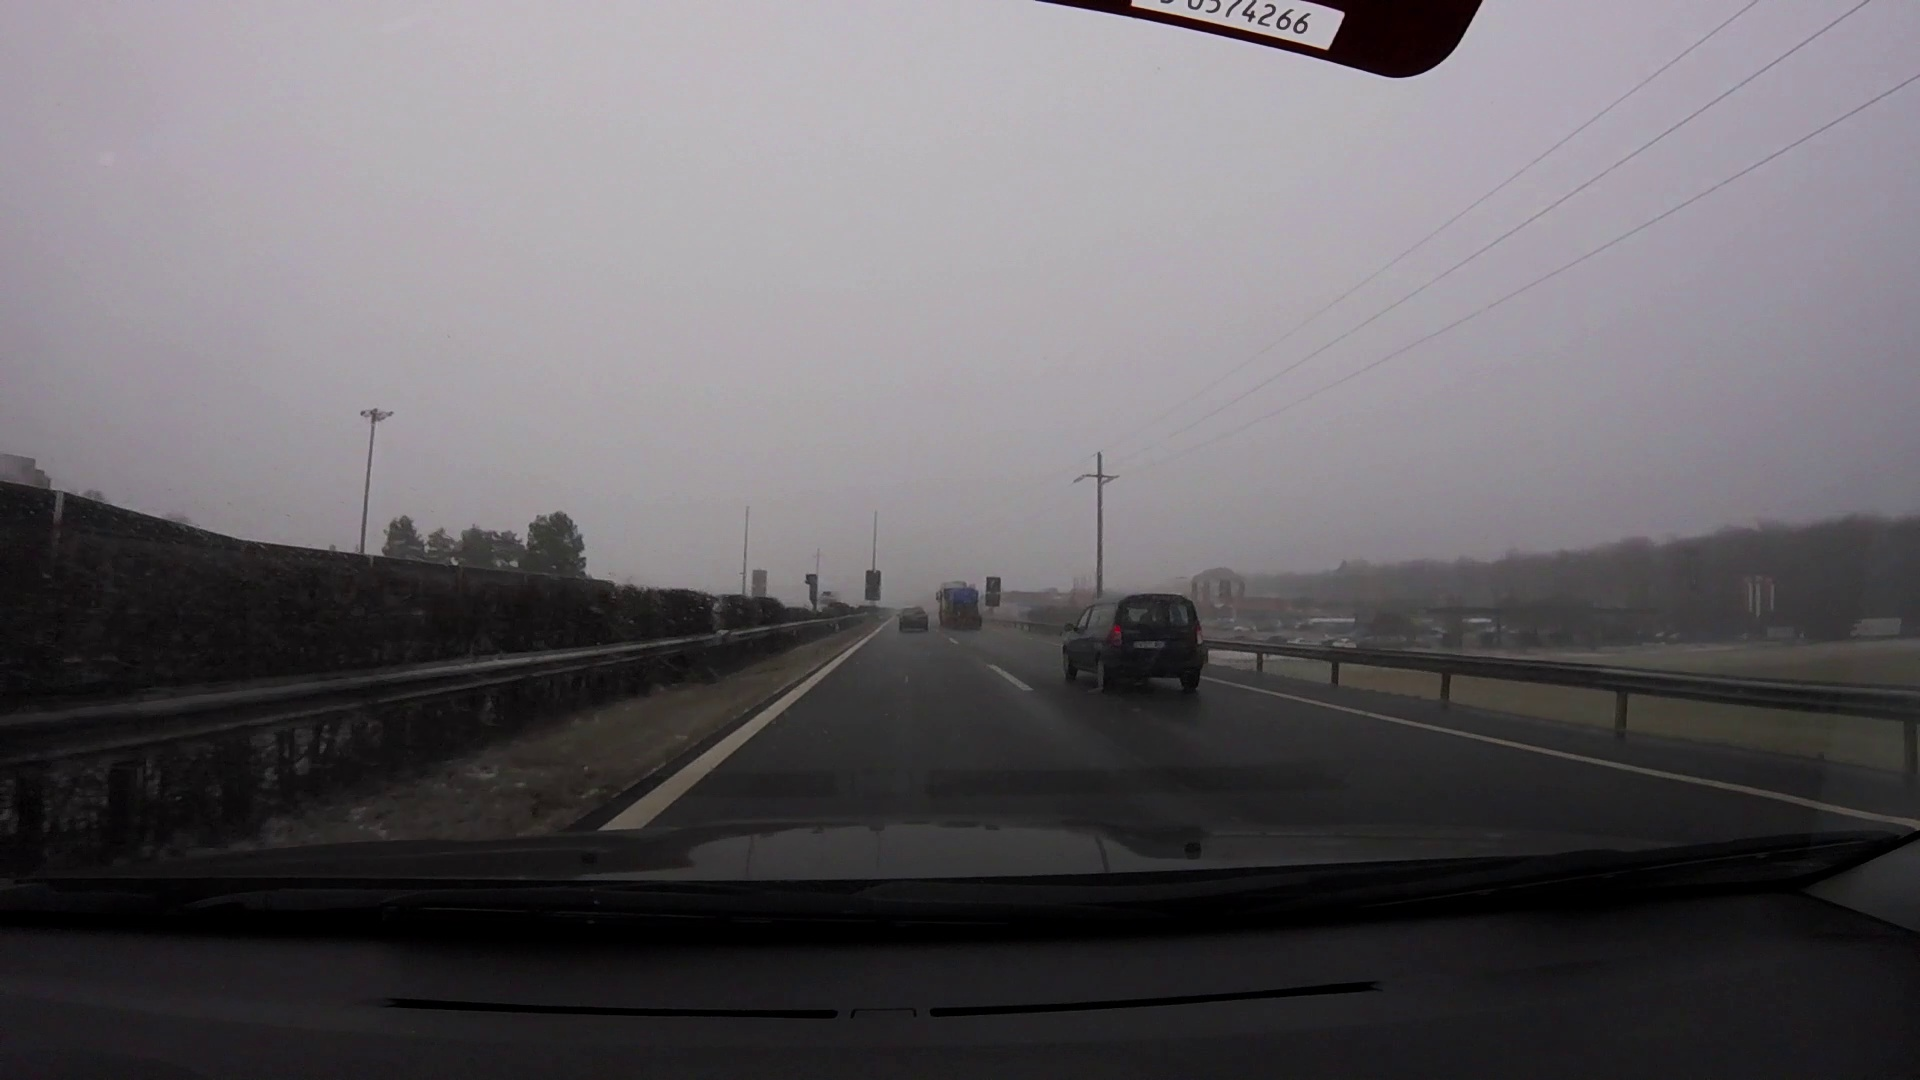radar: (803, 574, 820, 607)
